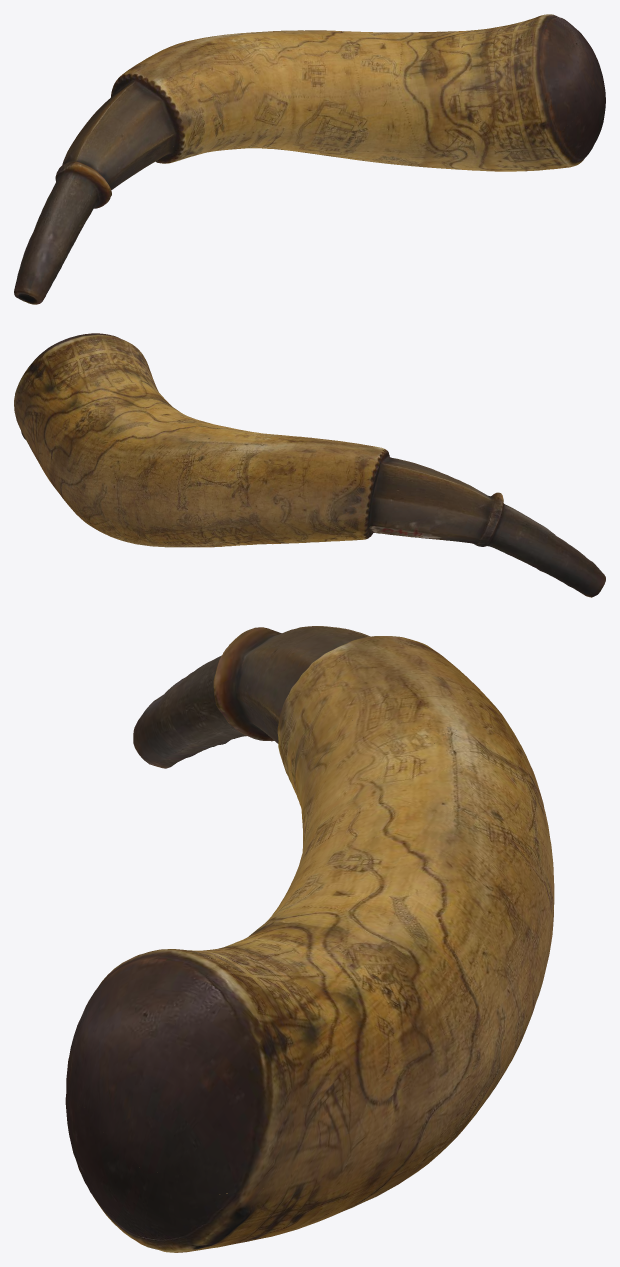
File: powder-horn.glb
3 views of the same model, one above another, from view 1: azimuth 30°, elevation 25°; view 2: azimuth 150°, elevation 25°; view 3: azimuth 270°, elevation 25° (orthographic). The views are drawn at different scales.
Visible parts, largest first — view 1: powder-horn; view 2: powder-horn; view 3: powder-horn.
Part boxes in pixels (box(x1,y1,x2,y2)): powder-horn: box(14, 14, 605, 304); powder-horn: box(14, 333, 605, 597); powder-horn: box(65, 626, 554, 1252).
Size of the model in its own units: 0.33 by 0.0821 by 0.123.
1 material, 1 textured.
